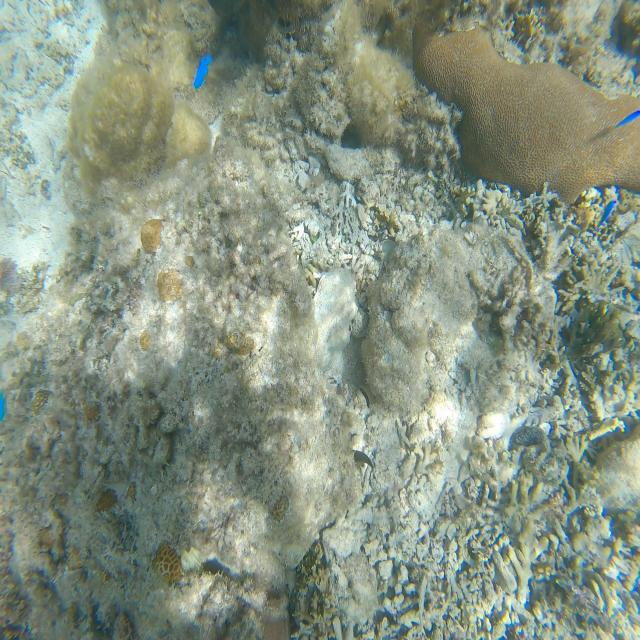rurisuzumedai: (193, 54, 211, 88), (601, 201, 617, 225), (618, 109, 640, 126), (0, 392, 4, 421)
